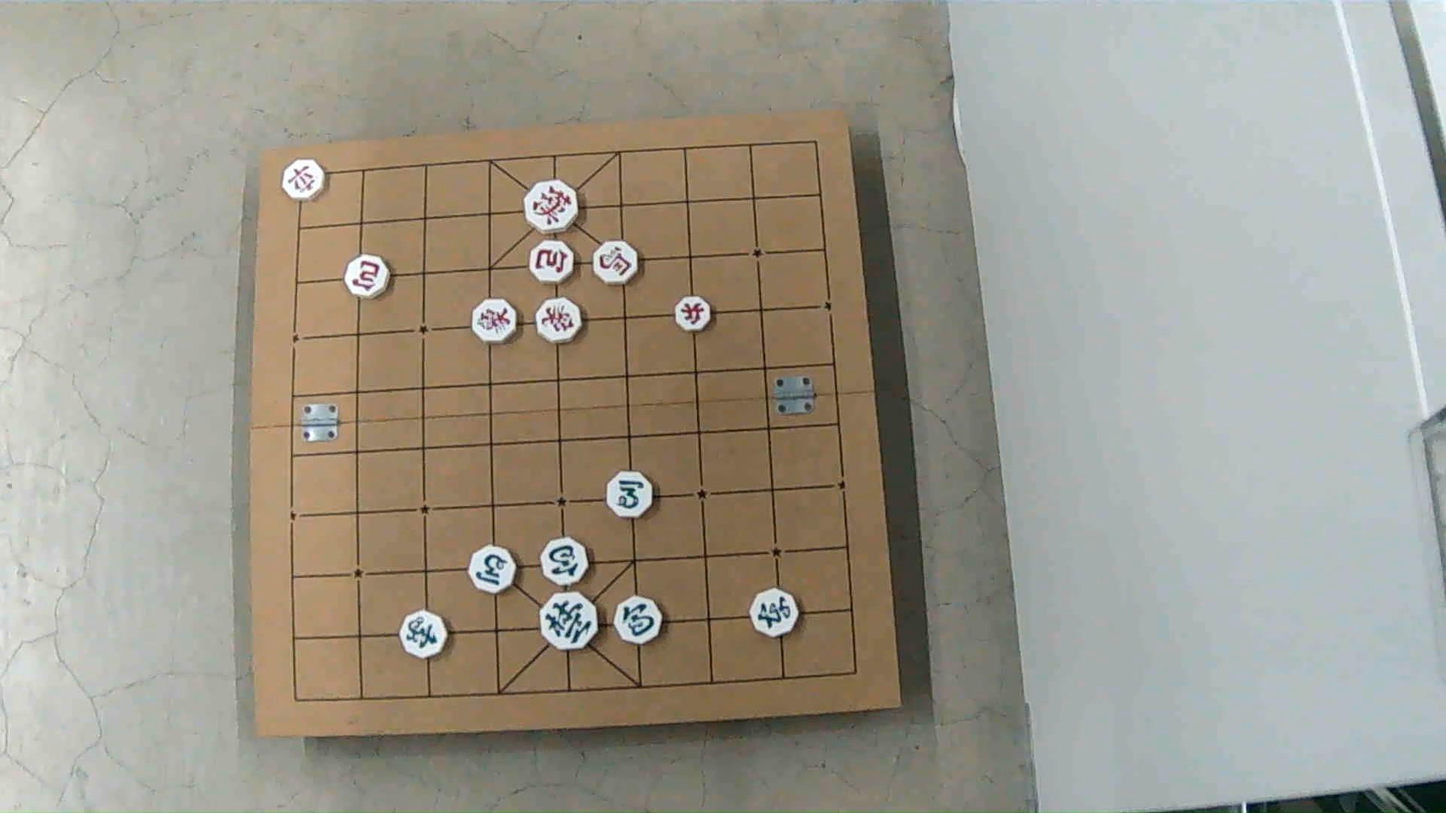cha_green: (752, 590, 800, 638)
cha_red: (284, 159, 327, 199)
jol_red: (675, 295, 710, 330)
ma_green: (468, 548, 517, 595), (608, 470, 654, 518)
ma_red: (595, 243, 642, 286)
po_green: (541, 537, 589, 585), (614, 598, 661, 646)
po_red: (346, 254, 390, 298), (530, 240, 575, 283)
sang_green: (399, 612, 447, 659)
sang_red: (535, 297, 583, 343), (471, 300, 517, 344)
wang_green: (541, 589, 599, 648)
wang_red: (527, 182, 580, 234)
